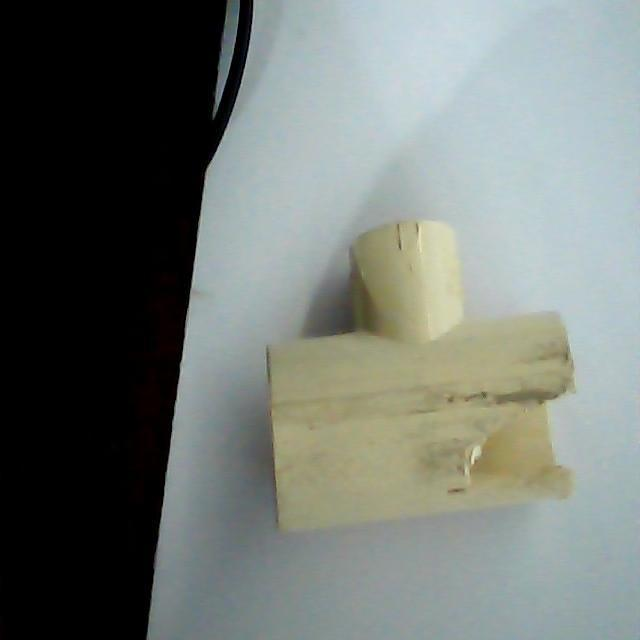Defective: (464, 378, 574, 488)
T Joint: (267, 220, 581, 533)
